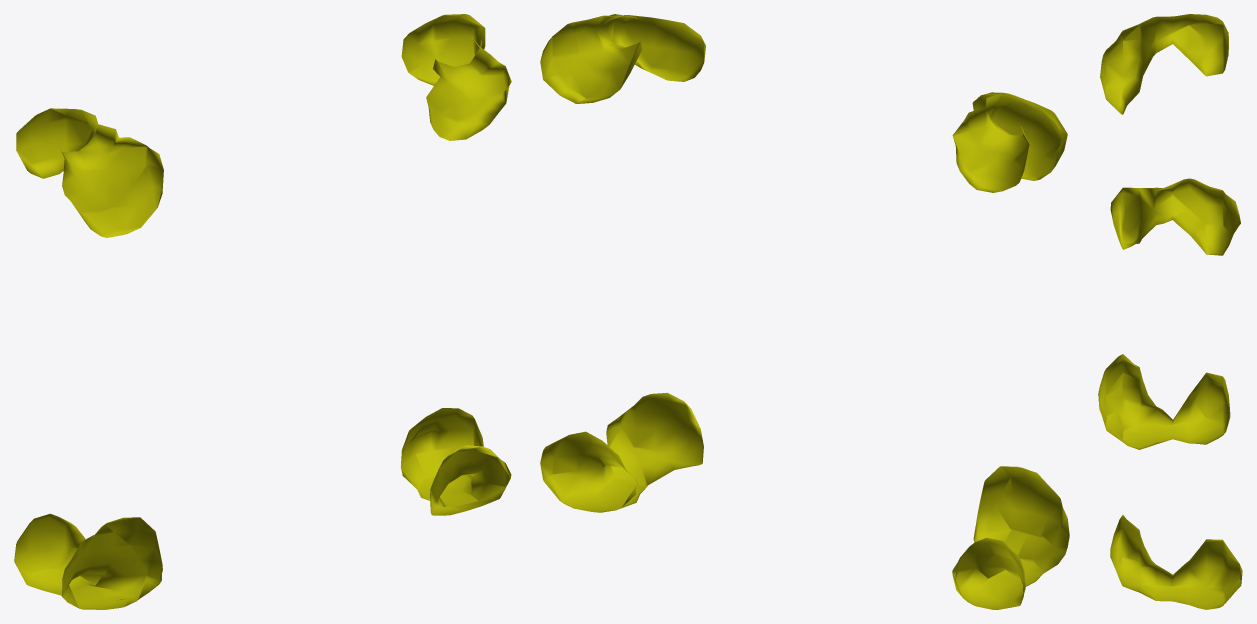
The picture shows the model from 3 angles, left to right: view 1: azimuth 30°, elevation 25°; view 2: azimuth 150°, elevation 25°; view 3: azimuth 270°, elevation 25°; orthographic projection. The views are drawn at different scales.
Visible parts, largest first — view 1: world; view 2: world; view 3: world.
Boxes of the visible parts, bbox=[...] form: world: bbox=[14, 14, 511, 609]; world: bbox=[540, 14, 1069, 609]; world: bbox=[1098, 14, 1242, 609].
Bounding box in the file's own units: 28.53 × 27.81 × 8.67.
